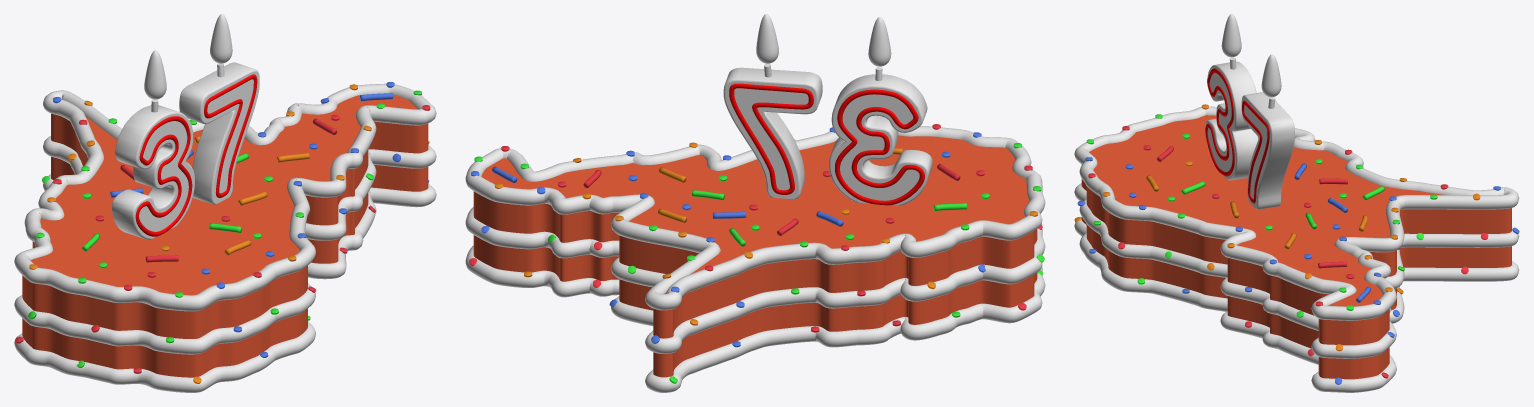
The model's file is WVCake2023.glb.
3 renders of one model, left to right at view 1: azimuth 30°, elevation 25°; view 2: azimuth 150°, elevation 25°; view 3: azimuth 270°, elevation 25°, orthographic. The views are drawn at different scales.
Visible parts, largest first — view 1: SimplifiedWV.001, Layer1.001, Layer2.001, Layer2.002, FirstNumber, SecondNumber, ThreeOutline.002, SevenOutline.002, CandleFlame2, CandleFlame1; view 2: SimplifiedWV.001, Layer1.001, Layer2.001, Layer2.002, FirstNumber, SecondNumber, ThreeOutline.003, SevenOutline.003, CandleFlame1, CandleFlame2; view 3: SimplifiedWV.001, Layer1.001, Layer2.002, Layer2.001, SecondNumber, FirstNumber, ThreeOutline.002, SevenOutline.002, CandleFlame1, CandleFlame2.
Boxes of the visible parts, bbox=[...] form: SimplifiedWV.001: bbox=[22, 94, 428, 377]; Layer1.001: bbox=[14, 83, 436, 311]; Layer2.001: bbox=[14, 136, 436, 354]; Layer2.002: bbox=[14, 174, 436, 392]; FirstNumber: bbox=[111, 105, 194, 239]; SecondNumber: bbox=[179, 62, 259, 204]; ThreeOutline.002: bbox=[135, 116, 192, 236]; SevenOutline.002: bbox=[204, 74, 257, 197]; CandleFlame2: bbox=[210, 14, 232, 63]; CandleFlame1: bbox=[144, 50, 166, 99]; SimplifiedWV.001: bbox=[473, 135, 1037, 377]; Layer1.001: bbox=[465, 126, 1045, 310]; Layer2.001: bbox=[465, 207, 1045, 353]; Layer2.002: bbox=[465, 245, 1045, 392]; FirstNumber: bbox=[829, 74, 932, 205]; SecondNumber: bbox=[723, 67, 822, 199]; ThreeOutline.003: bbox=[835, 89, 924, 205]; SevenOutline.003: bbox=[729, 83, 813, 194]; CandleFlame1: bbox=[868, 17, 891, 66]; CandleFlame2: bbox=[756, 14, 778, 63]; SimplifiedWV.001: bbox=[1081, 115, 1511, 379]; Layer1.001: bbox=[1074, 106, 1519, 320]; Layer2.002: bbox=[1074, 217, 1519, 392]; Layer2.001: bbox=[1074, 183, 1519, 358]; SecondNumber: bbox=[1241, 92, 1294, 209]; FirstNumber: bbox=[1205, 61, 1258, 180]; ThreeOutline.002: bbox=[1205, 68, 1234, 176]; SevenOutline.002: bbox=[1242, 100, 1269, 203]; CandleFlame1: bbox=[1221, 14, 1241, 57]; CandleFlame2: bbox=[1261, 54, 1281, 97].
Bounding box in the file's own units: 4.78 × 2.56 × 4.36.
